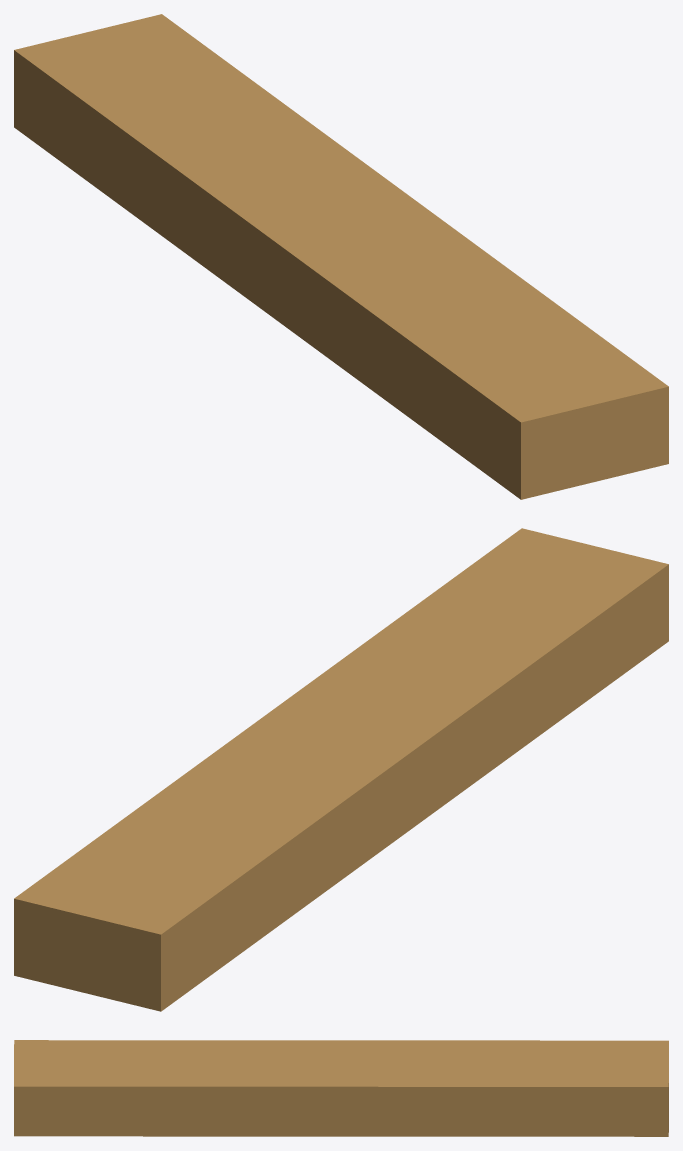
3 renders of one model, top to bottom at view 1: azimuth 30°, elevation 25°; view 2: azimuth 150°, elevation 25°; view 3: azimuth 270°, elevation 25°, orthographic. The views are drawn at different scales.
Visible parts, largest first — view 1: RUN-064-S00-NOG-03; view 2: RUN-064-S00-NOG-03; view 3: RUN-064-S00-NOG-03.
Boxes of the visible parts, bbox=[...] form: RUN-064-S00-NOG-03: bbox=[14, 14, 668, 499]; RUN-064-S00-NOG-03: bbox=[14, 528, 668, 1011]; RUN-064-S00-NOG-03: bbox=[14, 1040, 668, 1136].
Size of the model in its own units: 0.0908 by 0.045 by 0.5361.
